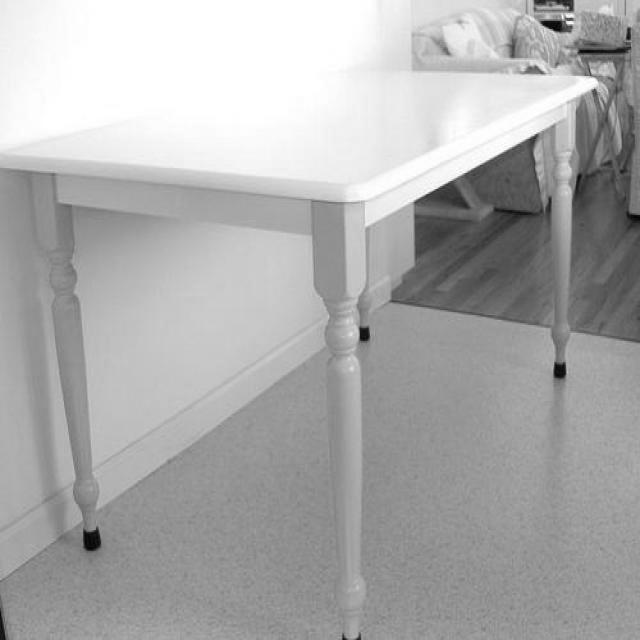table: (0, 67, 603, 638)
